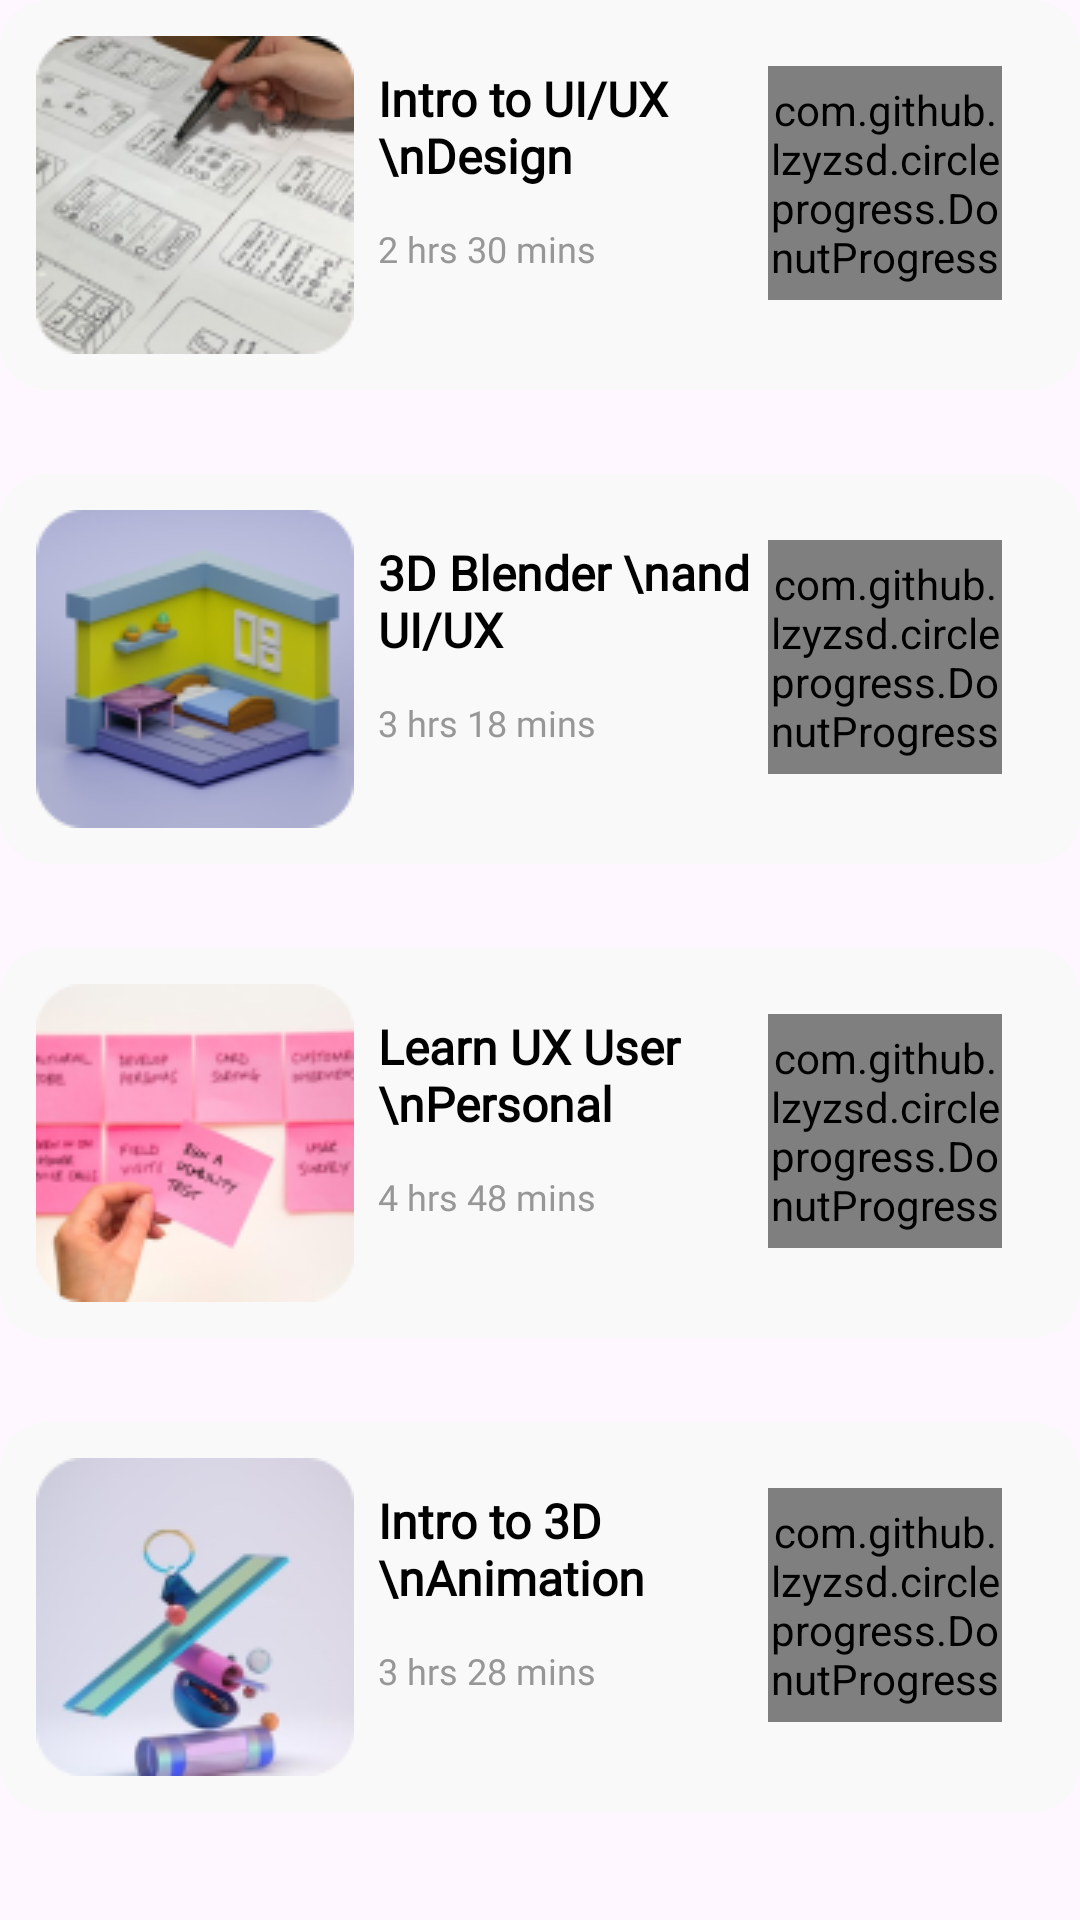

Icons on this 1080×1920 Android screen, each with its box as BBox(x1, y1, x2, y2):
course: BBox(36, 36, 354, 354), BBox(36, 510, 354, 828), BBox(36, 1029, 354, 1302), BBox(36, 1458, 354, 1776)
